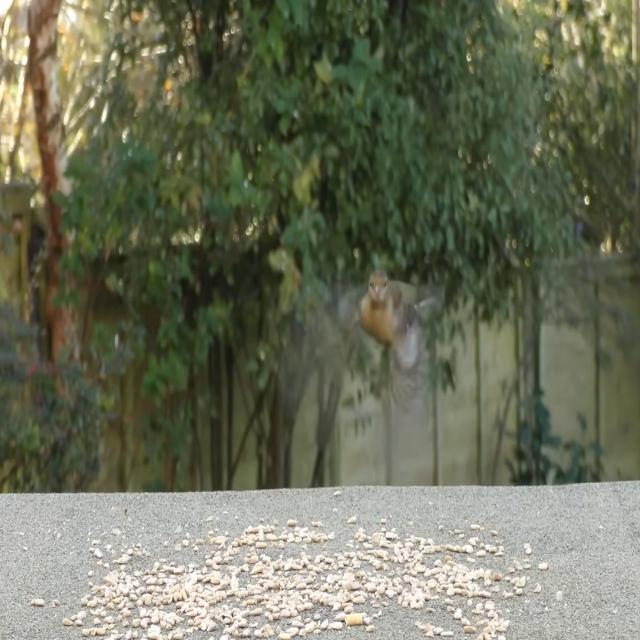beak: (372, 282, 381, 297)
bird: (319, 268, 450, 412)
